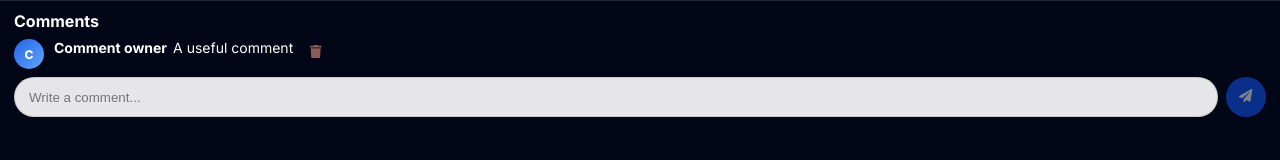
Test: comment authors can delete their own comments and update the count
This screenshot has width=1280, height=160.
Click the button named "Delete comment by Comment owner".
click(316, 53)  # box [303,39,328,67]
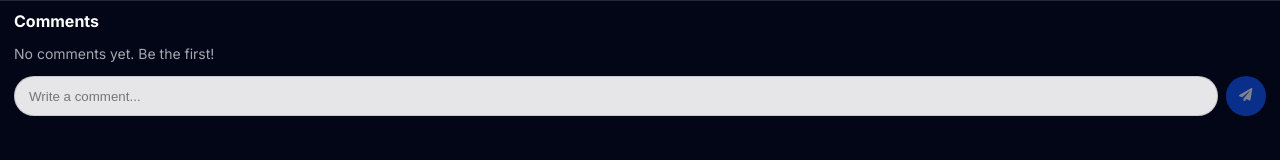
Check: the text "A useful comment" is gone
